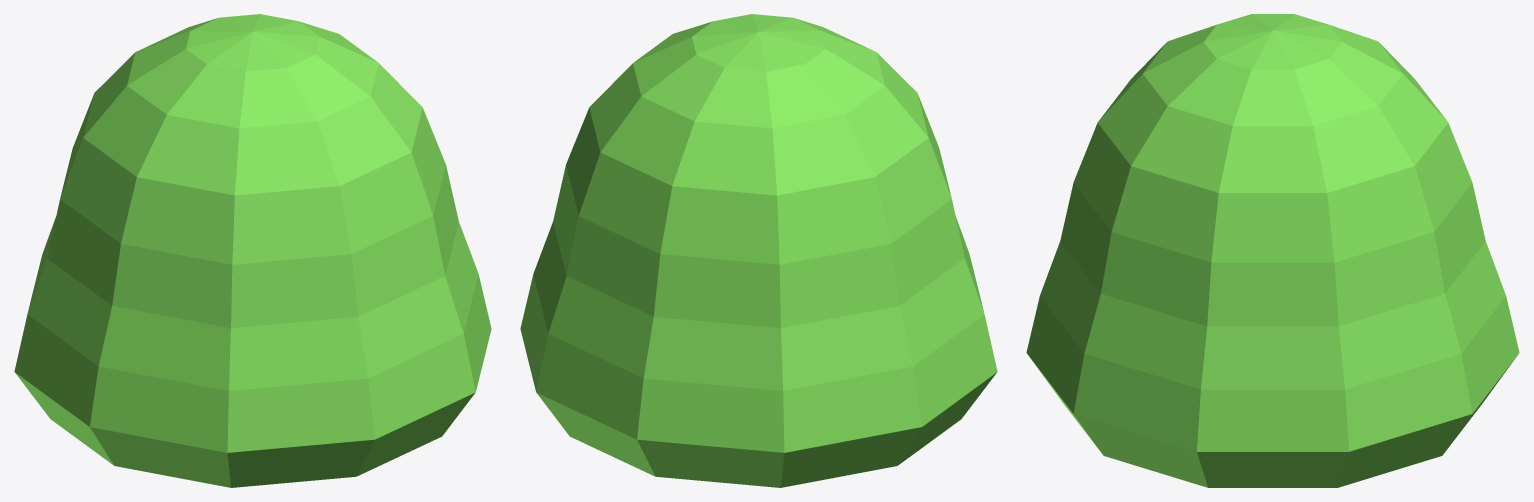
The model's file is Bush.fbx.
3 renders of one model, left to right at view 1: azimuth 30°, elevation 25°; view 2: azimuth 150°, elevation 25°; view 3: azimuth 270°, elevation 25°, orthographic.
Visible parts, largest first — view 1: Bush; view 2: Bush; view 3: Bush.
Part boxes in pixels (bbox=[...]): Bush: bbox=[14, 14, 491, 487]; Bush: bbox=[520, 14, 997, 487]; Bush: bbox=[1026, 14, 1519, 487].
Bounding box in the file's own units: 178 × 156 × 187.
